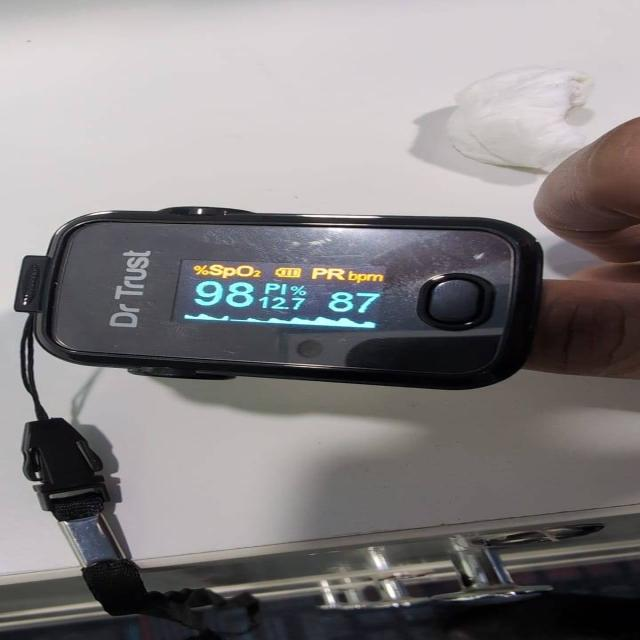spo2: (16, 208, 545, 392)
